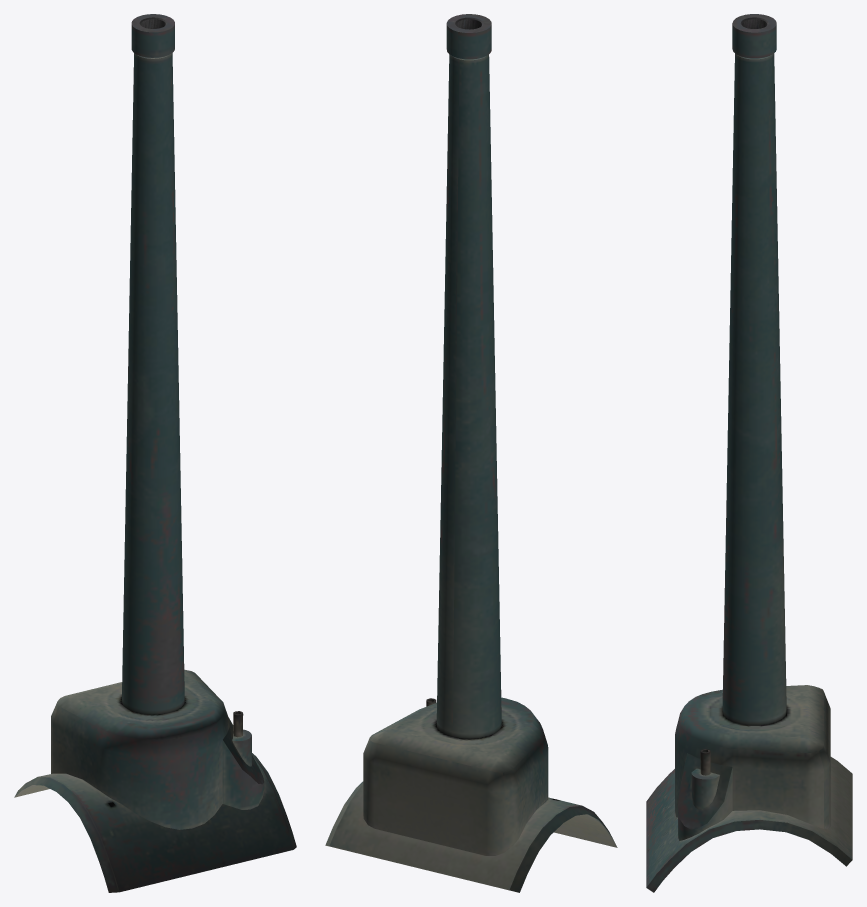
File: Gun_03.glb
3 views of the same model, side by side, from view 1: azimuth 30°, elevation 25°; view 2: azimuth 150°, elevation 25°; view 3: azimuth 270°, elevation 25° (orthographic). The views are drawn at different scales.
Parts seen in each view (by area): view 1: set_0_group_0; view 2: set_0_group_0; view 3: set_0_group_0.
Boxes of the visible parts, bbox=[...] form: set_0_group_0: bbox=[14, 14, 296, 892]; set_0_group_0: bbox=[325, 14, 617, 892]; set_0_group_0: bbox=[646, 14, 852, 892].
Size of the model in its own units: 0.7835 by 3.23 by 0.7331.
Materials: 1 (1 with a texture image).
